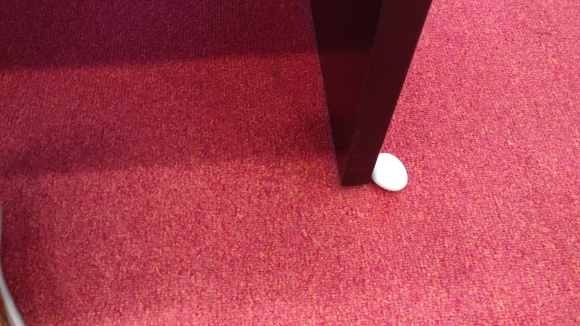egg: (371, 152, 408, 192)
